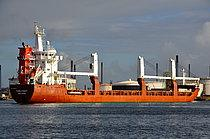Ship: (10, 20, 206, 108)
